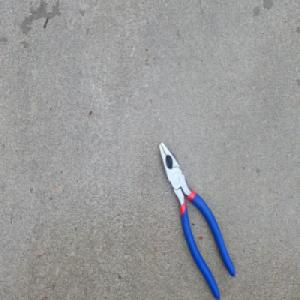Pliers: (157, 139, 236, 299)
